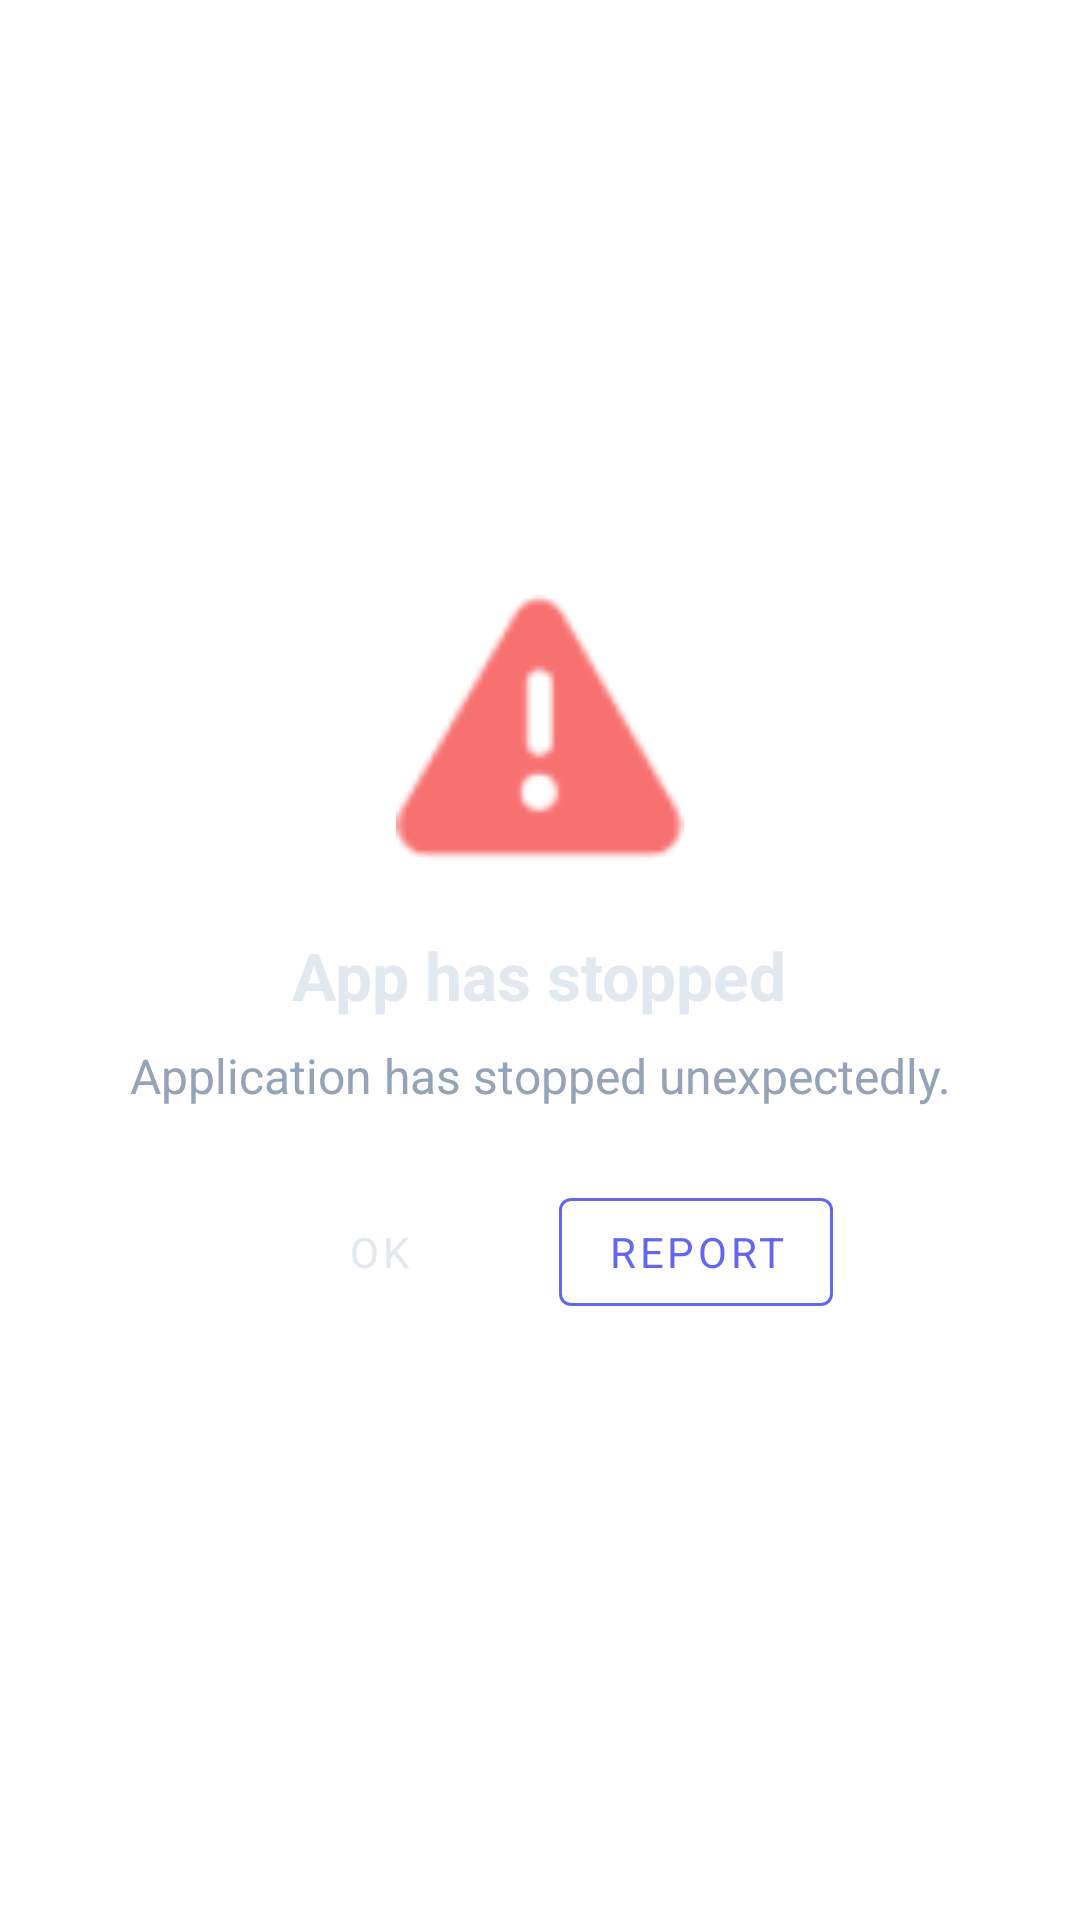

Named icons in this screenshot (1080 x 1920) and their centers, point (x, y):
Error icon: point (540, 727)
